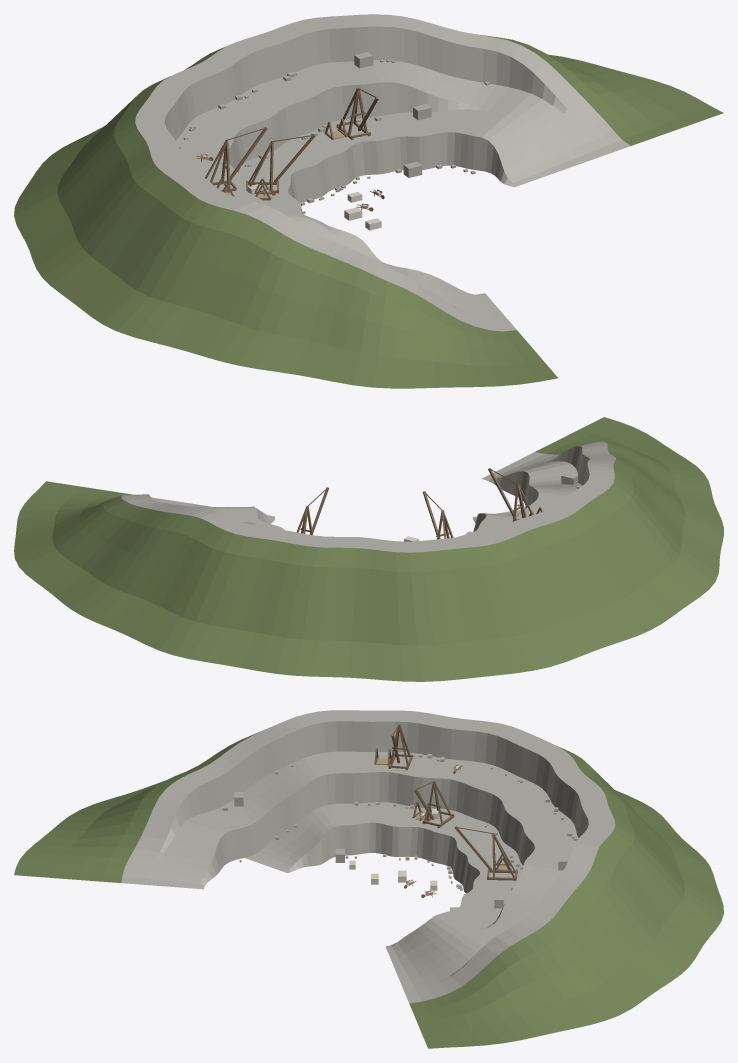
Rendered from quarry_face.glb.
The picture shows the model from 3 angles, top to bottom: view 1: azimuth 30°, elevation 25°; view 2: azimuth 150°, elevation 25°; view 3: azimuth 270°, elevation 25°; orthographic projection. The views are drawn at different scales.
Parts seen in each view (by area): view 1: QuarryFace; view 2: QuarryFace; view 3: QuarryFace.
Part boxes in pixels (x1,y1,x2,y2): QuarryFace: (14, 14, 723, 388); QuarryFace: (14, 417, 723, 681); QuarryFace: (14, 710, 723, 1048).
Size of the model in its own units: 91.11 by 14.89 by 91.16.
